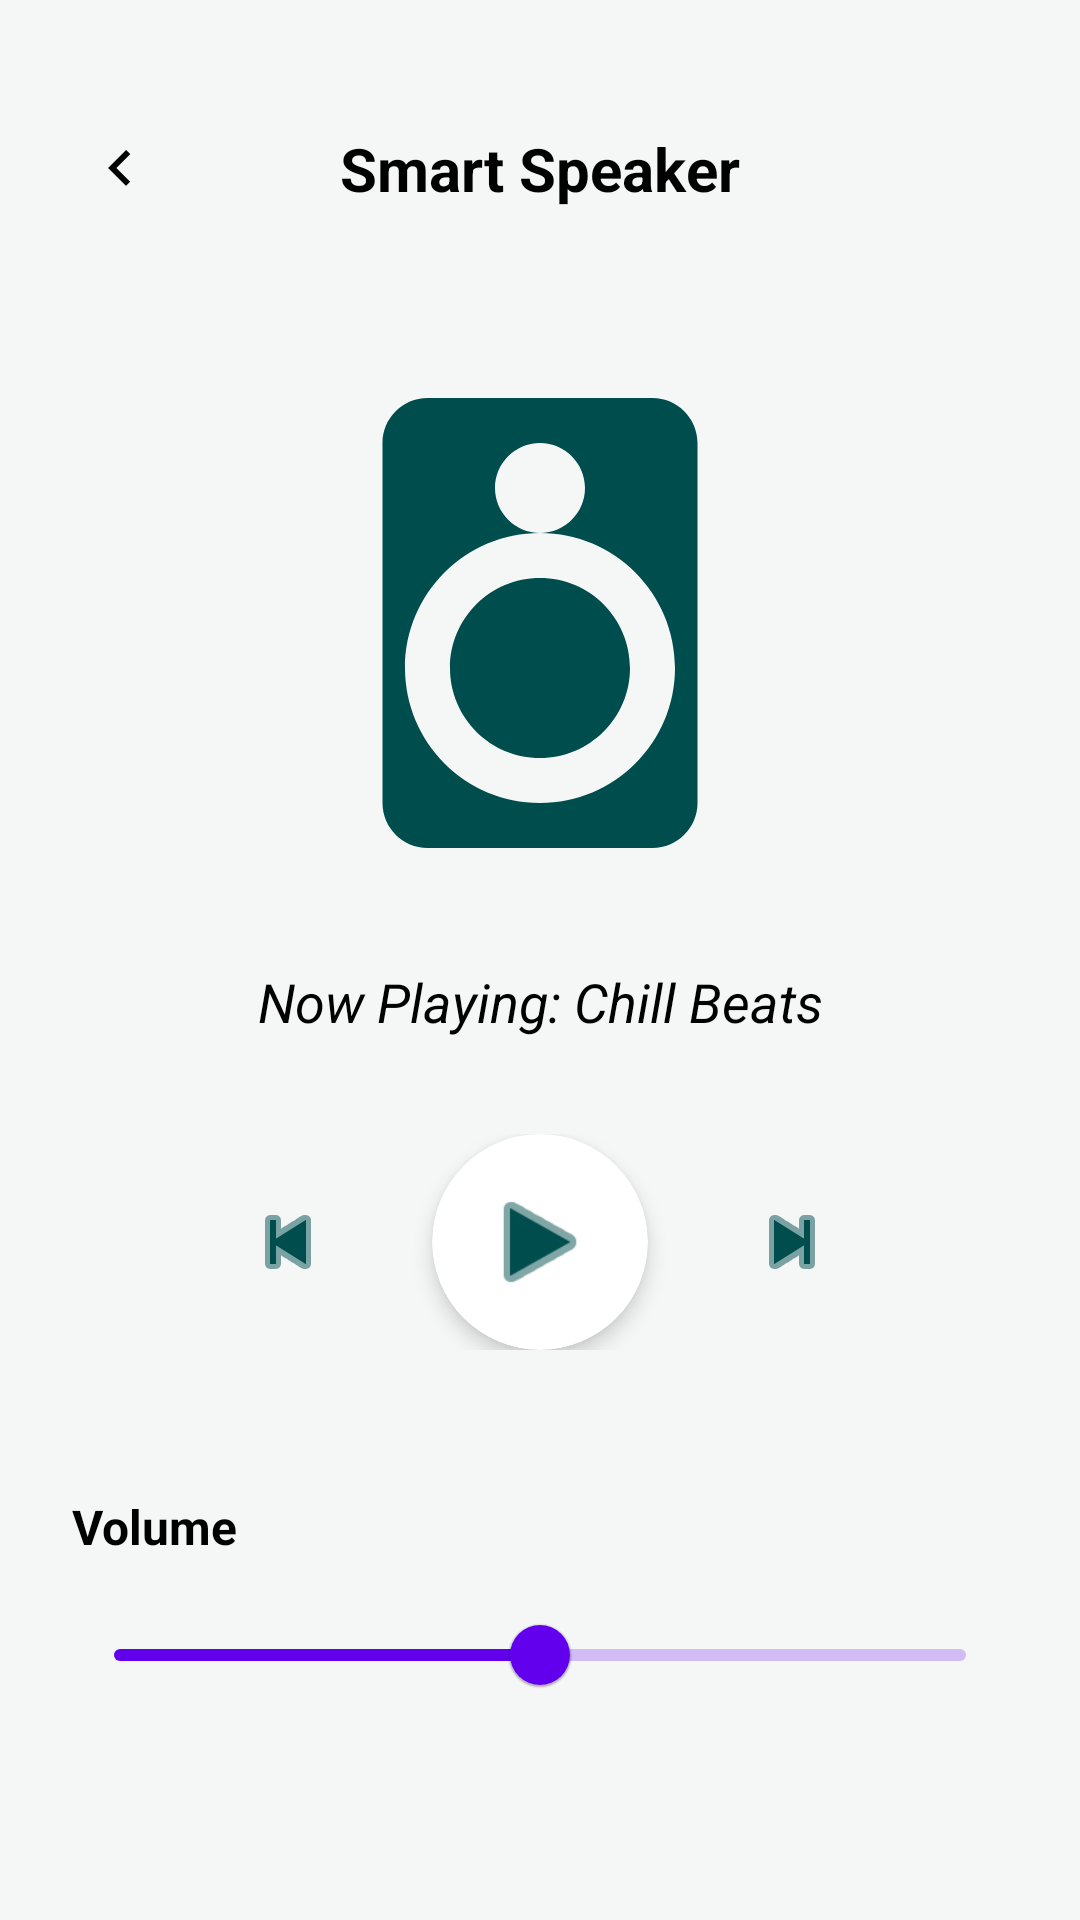

Locate icon controls on the screen. Image size 1080*1920, boxes as region(x1, y1, x2, y2).
arrow back: region(108, 150, 130, 186)
next: region(769, 1215, 815, 1269)
previous: region(265, 1215, 311, 1269)
